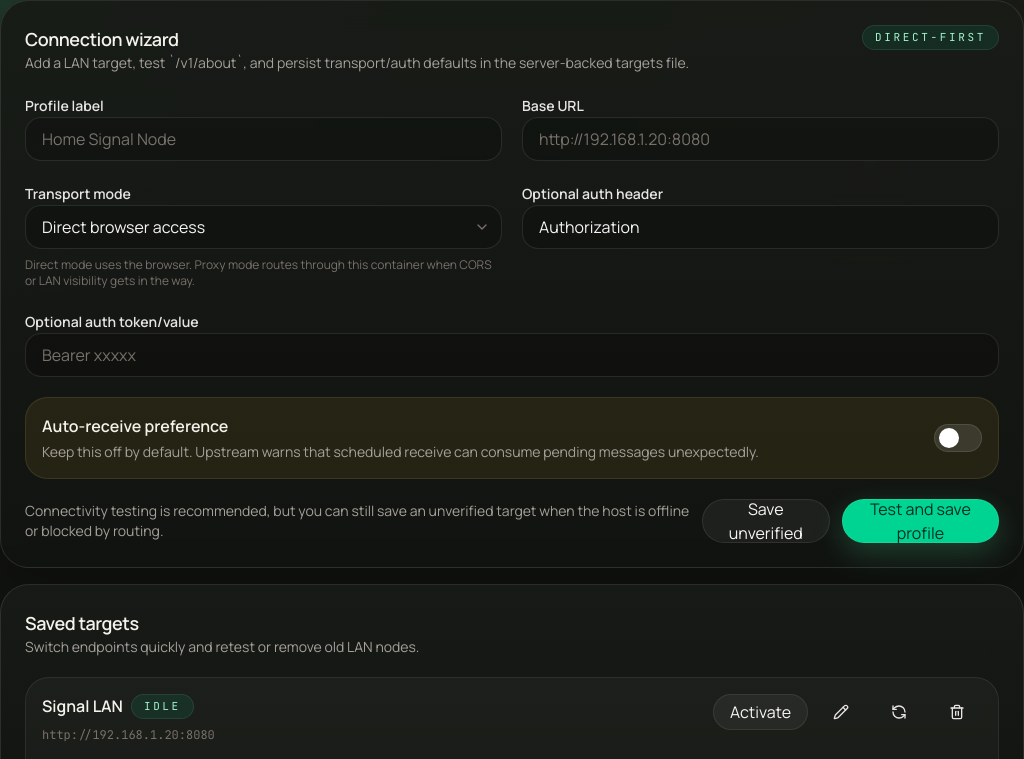
ConnectRoute › deletes an existing shared target
Step 1. Click the button named "delete signal lan" → click(957, 712), box [932,694,982,730]
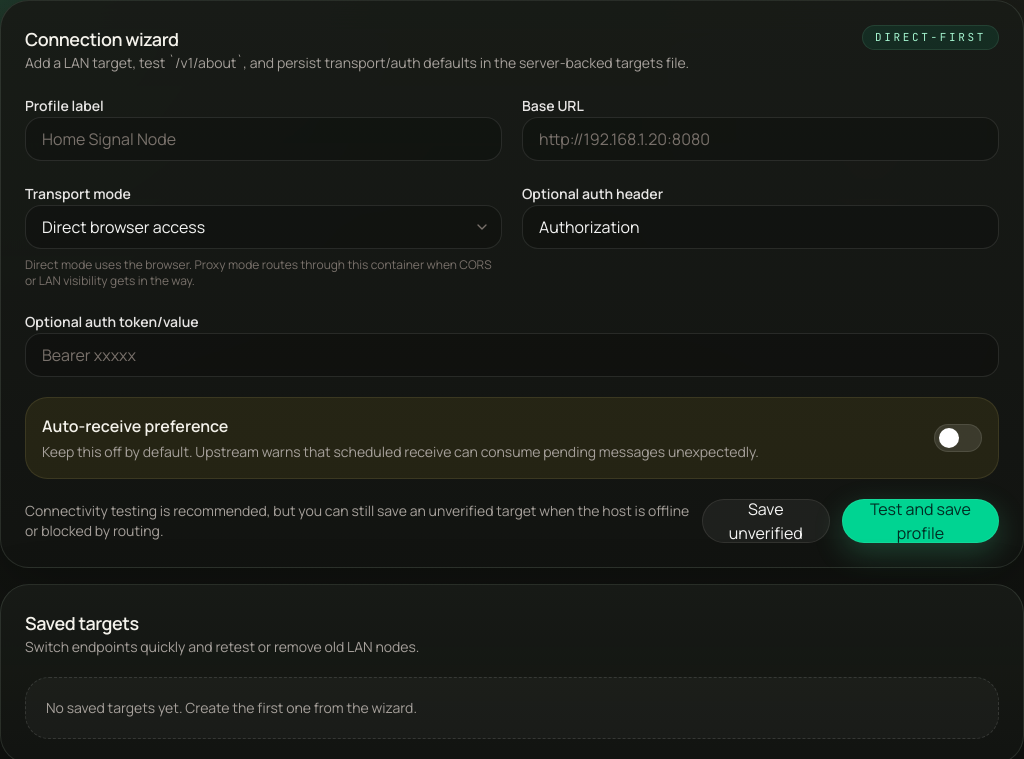
Expected: the heading "Signal LAN" is gone
